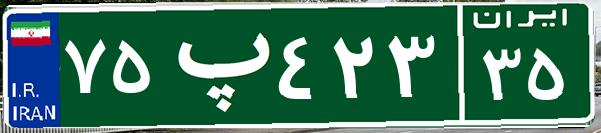2: (330, 28, 385, 110)
3: (385, 28, 445, 110), (475, 38, 525, 113)
4: (273, 28, 330, 110)
5: (110, 28, 158, 105), (525, 38, 570, 115)
7: (57, 26, 110, 107)
پ: (158, 15, 273, 115)
